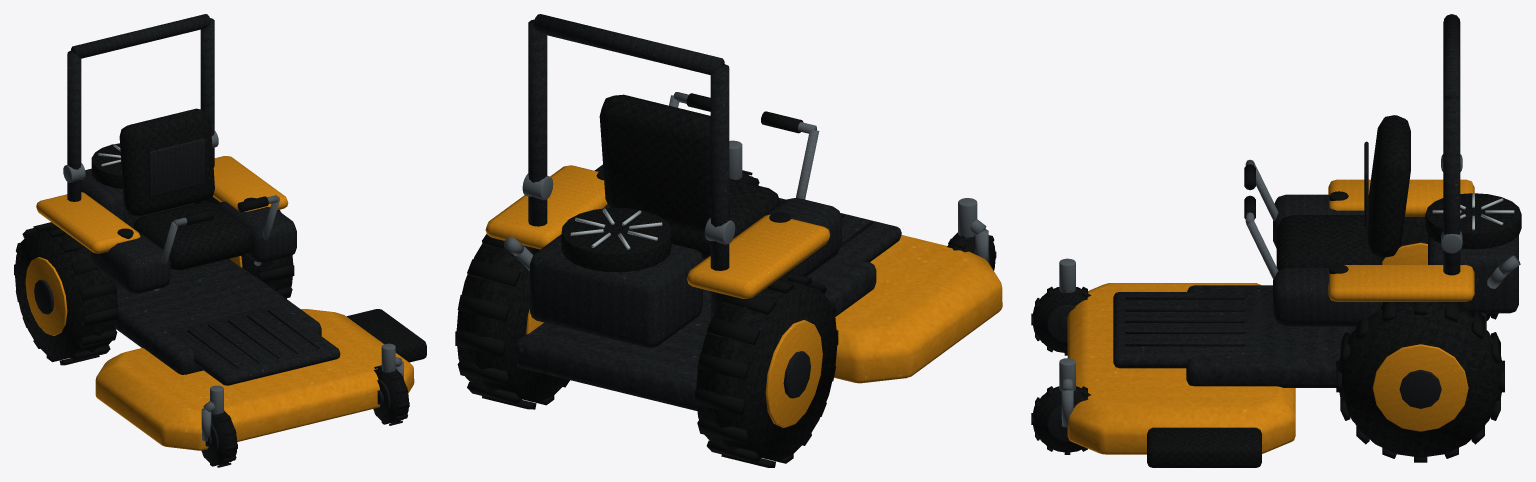
Rendered from Mower_ZeroTurn_52in.gltf.
The picture shows the model from 3 angles, left to right: view 1: azimuth 30°, elevation 25°; view 2: azimuth 150°, elevation 25°; view 3: azimuth 270°, elevation 25°; orthographic projection. The views are drawn at different scales.
Visible parts, largest first — view 1: Mower_ZeroTurn_52in__Body, Mower_ZeroTurn_52in__Wheel_Drive_L, Mower_ZeroTurn_52in__Wheel_Caster_R, Mower_ZeroTurn_52in__Wheel_Drive_R, Mower_ZeroTurn_52in__Wheel_Caster_L, Mower_ZeroTurn_52in__LapBar_R, Mower_ZeroTurn_52in__LapBar_L; view 2: Mower_ZeroTurn_52in__Body, Mower_ZeroTurn_52in__Wheel_Drive_L, Mower_ZeroTurn_52in__Wheel_Drive_R, Mower_ZeroTurn_52in__LapBar_L, Mower_ZeroTurn_52in__Wheel_Caster_L, Mower_ZeroTurn_52in__LapBar_R; view 3: Mower_ZeroTurn_52in__Body, Mower_ZeroTurn_52in__Wheel_Drive_R, Mower_ZeroTurn_52in__Wheel_Caster_L, Mower_ZeroTurn_52in__Wheel_Caster_R, Mower_ZeroTurn_52in__Wheel_Drive_L, Mower_ZeroTurn_52in__LapBar_R, Mower_ZeroTurn_52in__LapBar_L.
Part boxes in pixels (box(x1,y1,x2,y2)): Mower_ZeroTurn_52in__Body: box(36, 14, 426, 450); Mower_ZeroTurn_52in__Wheel_Drive_L: box(14, 222, 118, 365); Mower_ZeroTurn_52in__Wheel_Caster_R: box(373, 365, 409, 425); Mower_ZeroTurn_52in__Wheel_Drive_R: box(195, 197, 294, 298); Mower_ZeroTurn_52in__Wheel_Caster_L: box(201, 410, 237, 467); Mower_ZeroTurn_52in__LapBar_R: box(237, 195, 279, 265); Mower_ZeroTurn_52in__LapBar_L: box(154, 209, 214, 290); Mower_ZeroTurn_52in__Body: box(485, 14, 1002, 410); Mower_ZeroTurn_52in__Wheel_Drive_L: box(695, 272, 838, 467); Mower_ZeroTurn_52in__Wheel_Drive_R: box(455, 234, 569, 409); Mower_ZeroTurn_52in__LapBar_L: box(761, 111, 819, 199); Mower_ZeroTurn_52in__Wheel_Caster_L: box(947, 232, 996, 270); Mower_ZeroTurn_52in__LapBar_R: box(669, 92, 710, 111); Mower_ZeroTurn_52in__Body: box(1059, 14, 1521, 467); Mower_ZeroTurn_52in__Wheel_Drive_R: box(1336, 302, 1504, 462); Mower_ZeroTurn_52in__Wheel_Caster_L: box(1031, 286, 1091, 355); Mower_ZeroTurn_52in__Wheel_Caster_R: box(1031, 386, 1090, 454); Mower_ZeroTurn_52in__Wheel_Drive_L: box(1382, 216, 1498, 320); Mower_ZeroTurn_52in__LapBar_R: box(1244, 195, 1278, 279); Mower_ZeroTurn_52in__LapBar_L: box(1244, 159, 1278, 221).
Bounding box in the file's own units: 1.63 × 1.61 × 2.04.
Materials: 1 (1 with a texture image).
